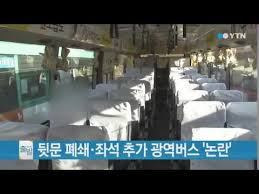seat: (182, 98, 226, 136)
